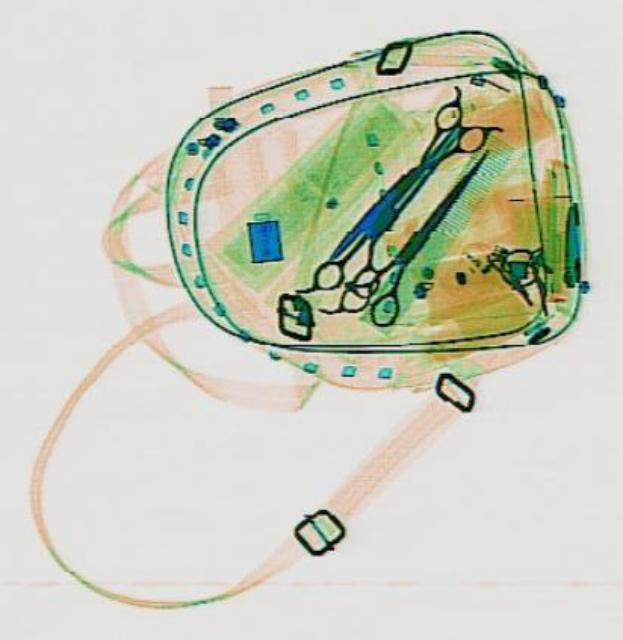Scissors: (324, 127, 510, 336), (301, 122, 480, 318), (314, 92, 493, 276)
